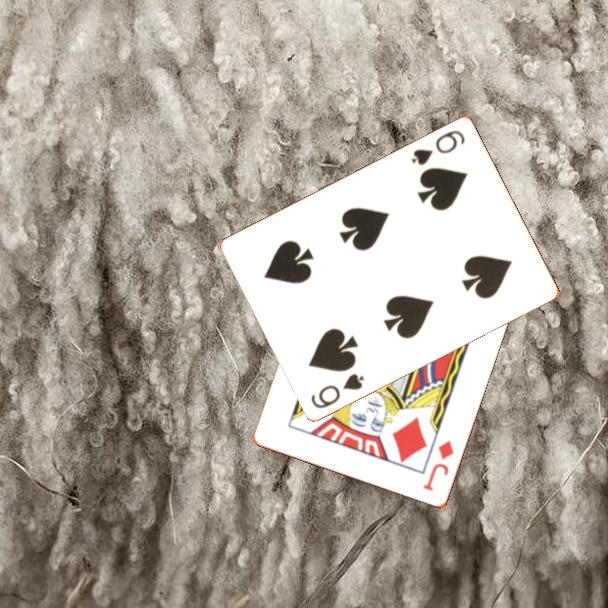d11: (420, 437, 457, 494)
s06: (407, 126, 468, 168), (307, 370, 367, 411)
